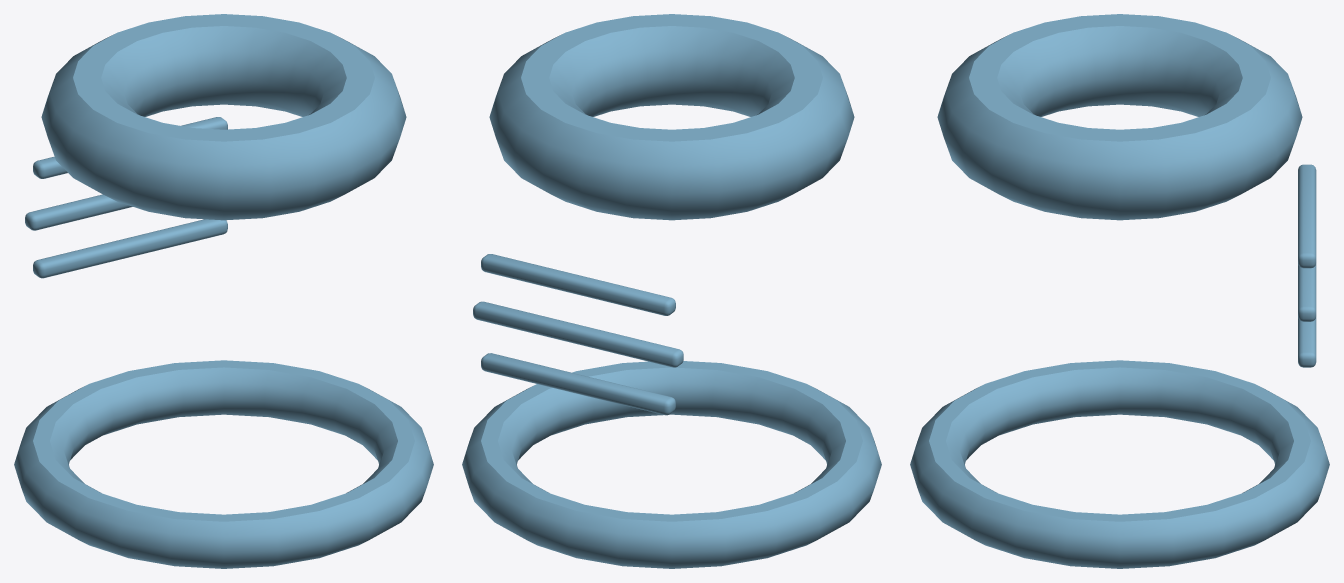
The model's file is Top_Sweater.fbx.
3 views of the same model, side by side, from view 1: azimuth 30°, elevation 25°; view 2: azimuth 150°, elevation 25°; view 3: azimuth 270°, elevation 25° (orthographic).
Parts seen in each view (by area): view 1: Turtleneck, Sweater_Hem, Sweater_Stripe, Sweater_Stripe.001, Sweater_Stripe.002; view 2: Turtleneck, Sweater_Hem, Sweater_Stripe.001, Sweater_Stripe, Sweater_Stripe.002; view 3: Turtleneck, Sweater_Hem, Sweater_Stripe.002, Sweater_Stripe.001, Sweater_Stripe.
Boxes of the visible parts, x1,y1,x2,y2 form: Turtleneck: [41, 14, 406, 220]; Sweater_Hem: [14, 360, 433, 568]; Sweater_Stripe: [33, 219, 227, 278]; Sweater_Stripe.001: [25, 194, 132, 230]; Sweater_Stripe.002: [33, 117, 227, 178]; Turtleneck: [489, 14, 854, 220]; Sweater_Hem: [462, 361, 881, 568]; Sweater_Stripe.001: [473, 301, 683, 367]; Sweater_Stripe: [481, 353, 675, 415]; Sweater_Stripe.002: [481, 254, 675, 315]; Turtleneck: [937, 14, 1302, 220]; Sweater_Hem: [910, 360, 1329, 568]; Sweater_Stripe.002: [1298, 164, 1316, 268]; Sweater_Stripe.001: [1298, 263, 1316, 321]; Sweater_Stripe: [1298, 317, 1316, 367].
Size of the model in its own units: 46 by 49.61 by 46.
